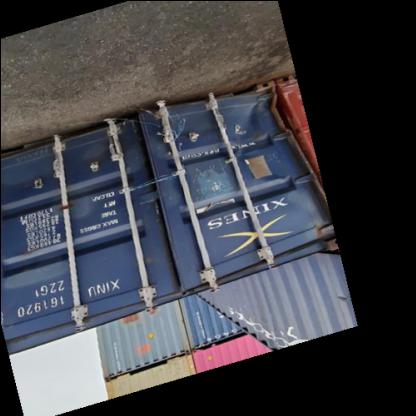Damage: (240, 87, 296, 149), (184, 163, 234, 207), (154, 106, 198, 152), (280, 190, 312, 223)
